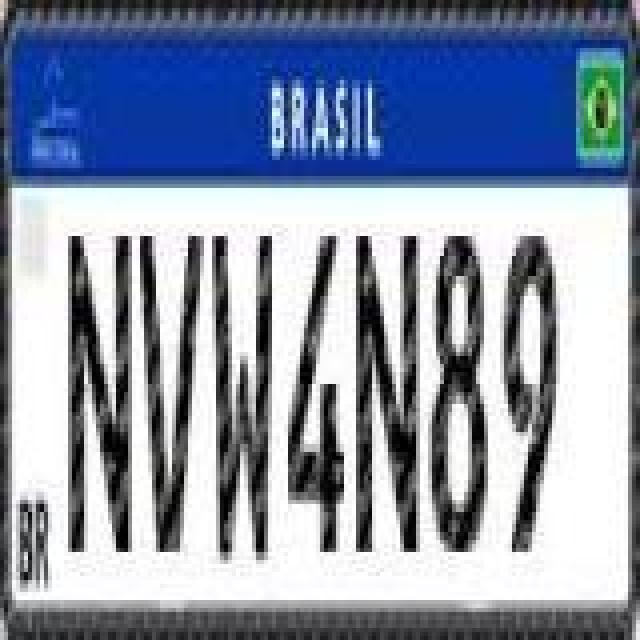4: (280, 224, 344, 560)
8: (424, 224, 488, 560)
9: (496, 220, 560, 556)
N: (354, 224, 422, 560), (66, 230, 134, 554)
V: (138, 230, 206, 554)
W: (206, 232, 274, 568)
